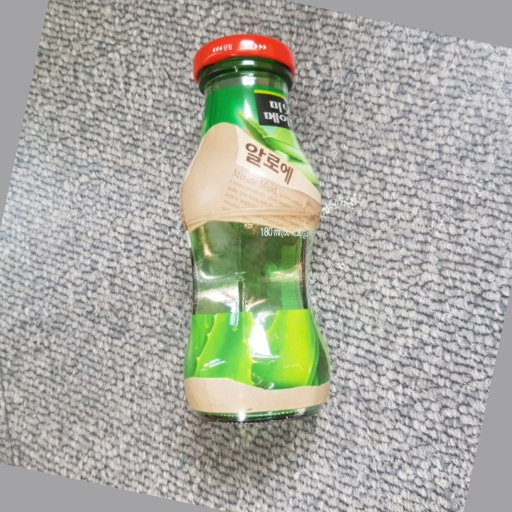Glass_4: (172, 32, 334, 421)
